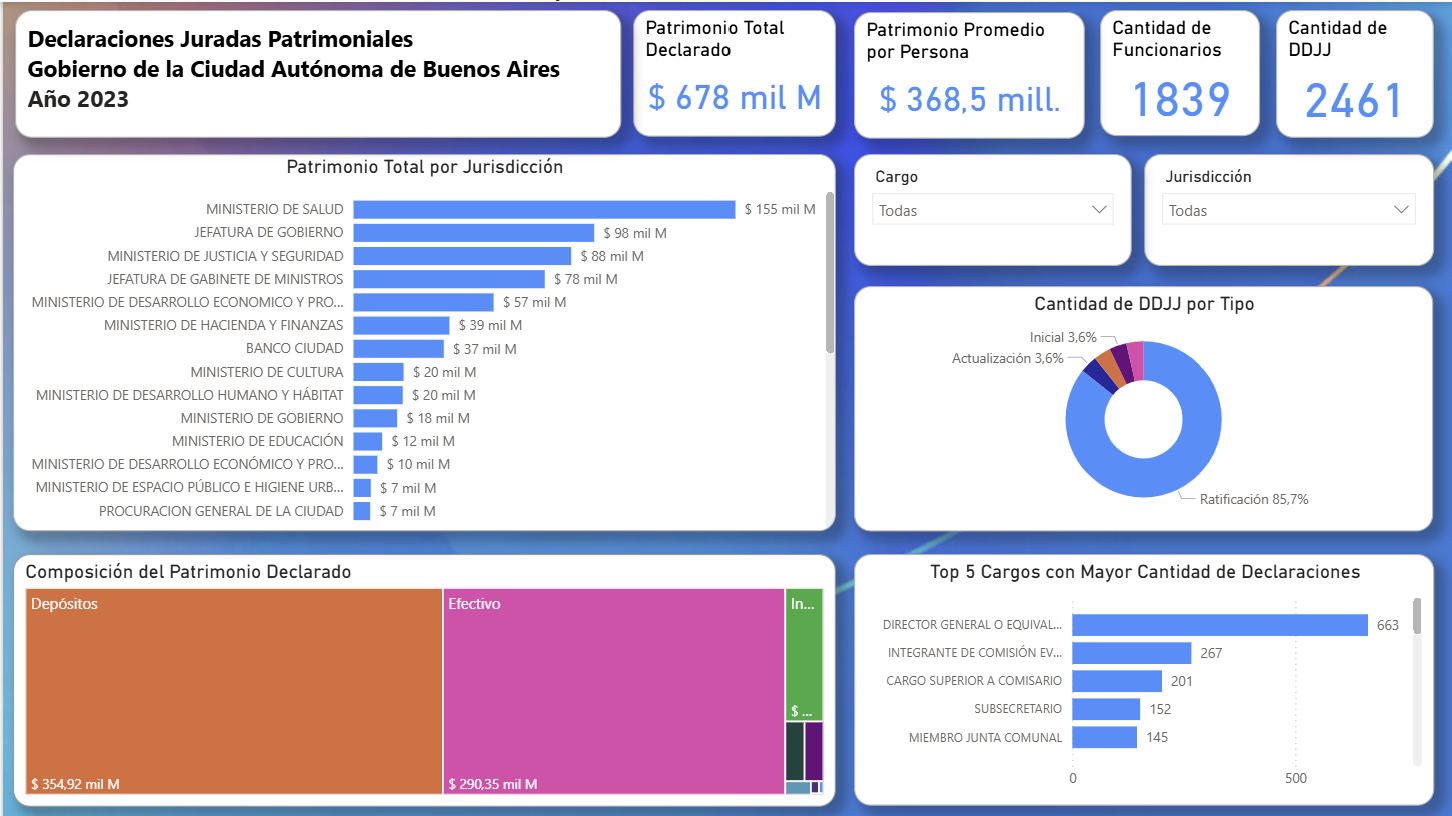

What the dashboard file says about the page in this screenshot:
{"tool":"powerbi","page":{"name":"Dashboard General","canvas":[1280,720],"ordinal":0},"visuals":[{"type":"card","title":"Cantidad de Funcionarios","fields":{"Values":["CountNonNull(Dim_Declarantes.cuil)"]},"box":[968.8,7.1,141.4,111.4],"z":1000},{"type":"card","title":"Patrimonio Total Declarado","fields":{"Values":["Fact_ActasNotariales.Patrimonio Total"]},"box":[557,6.9,178.7,111.9],"z":2000},{"type":"card","title":"Patrimonio Promedio por Persona","fields":{"Values":["Fact_ActasNotariales.Patrimonio Promedio por Persona"]},"box":[750.7,8.1,204.1,111.9],"z":3000},{"type":"barChart","title":"Patrimonio Total por Jurisdicción","fields":{"Category":["Dim_Laboral.jurisdiccion"],"Y":["Fact_ActasNotariales.Patrimonio Total"]},"box":[9.2,134.9,726.5,333.3],"z":4000},{"type":"donutChart","title":"Cantidad de DDJJ por Tipo","fields":{"Category":["Dim_TipoDeclaracion.tipoddjj"],"Y":["CountNonNull(Dim_TipoDeclaracion.tipoddjj)"]},"box":[751.9,251.4,512,216.8],"z":5000},{"type":"barChart","title":"Top 5 Cargos con Mayor Cantidad de Declaraciones","fields":{"Category":["Dim_Laboral.cargo"],"Y":["Fact_ActasNotariales.Cantidad de Declaraciones"]},"box":[751.2,487.6,513.1,222.5],"z":6000},{"type":"slicer","fields":{"Values":["Dim_Laboral.jurisdiccion"]},"box":[1007.7,134.4,256.4,99],"z":7000},{"type":"slicer","fields":{"Values":["Dim_Laboral.cargo"]},"box":[751.4,134.4,245.7,99],"z":8000},{"type":"card","title":"Cantidad de DDJJ","fields":{"Values":["CountNonNull(Fact_ActasNotariales.id_acta)"]},"box":[1124.4,7.1,139.7,113.1],"z":9000},{"type":"textbox","box":[10.4,6.9,536.2,113],"z":10000},{"type":"treemap","title":"Composición del Patrimonio Declarado","fields":{"Group":["Tipos de Bienes.Campo"],"Values":["Fact_ActasNotariales.Total Bienes Seleccionado"]},"box":[9.2,487.8,726.5,223.7],"z":10001}]}

Visuals, with their boxes in screenshot pixels (x1, y1, x2, y2), scaled from the page's 1280x720 canvas onto the 1452x816 screenshot:
"Cantidad de Funcionarios" card: left=1099, top=8, right=1259, bottom=134
"Patrimonio Total Declarado" card: left=632, top=8, right=835, bottom=135
"Patrimonio Promedio por Persona" card: left=852, top=9, right=1083, bottom=136
"Patrimonio Total por Jurisdicción" barChart: left=10, top=153, right=835, bottom=531
"Cantidad de DDJJ por Tipo" donutChart: left=853, top=285, right=1434, bottom=531
"Top 5 Cargos con Mayor Cantidad de Declaraciones" barChart: left=852, top=553, right=1434, bottom=805
slicer - Dim_Laboral.jurisdiccion: left=1143, top=152, right=1434, bottom=265
slicer - Dim_Laboral.cargo: left=852, top=152, right=1131, bottom=265
"Cantidad de DDJJ" card: left=1275, top=8, right=1434, bottom=136
textbox: left=12, top=8, right=620, bottom=136
"Composición del Patrimonio Declarado" treemap: left=10, top=553, right=835, bottom=806
